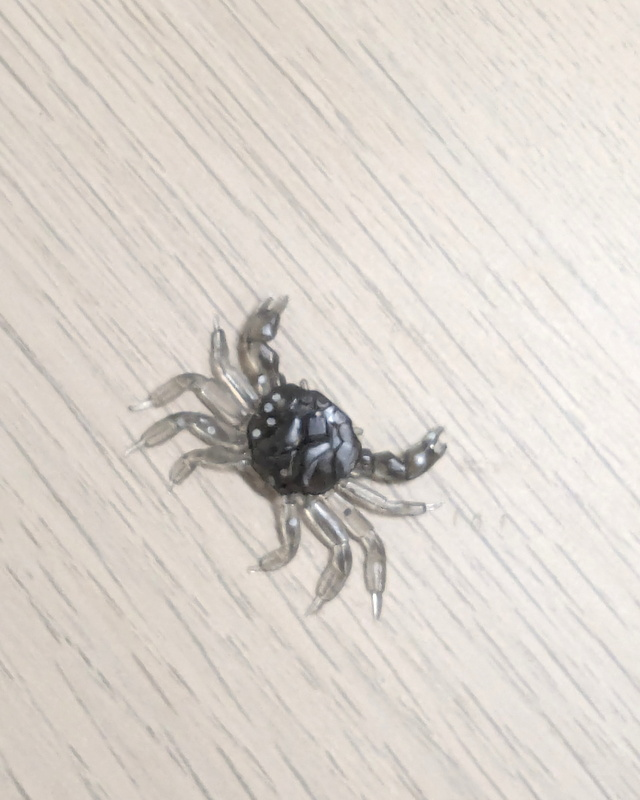crab1: (120, 293, 448, 626)
